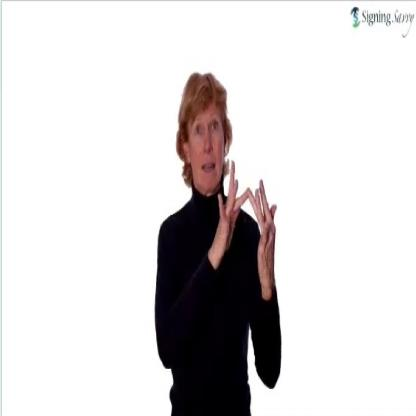Internet: (155, 68, 283, 414)
